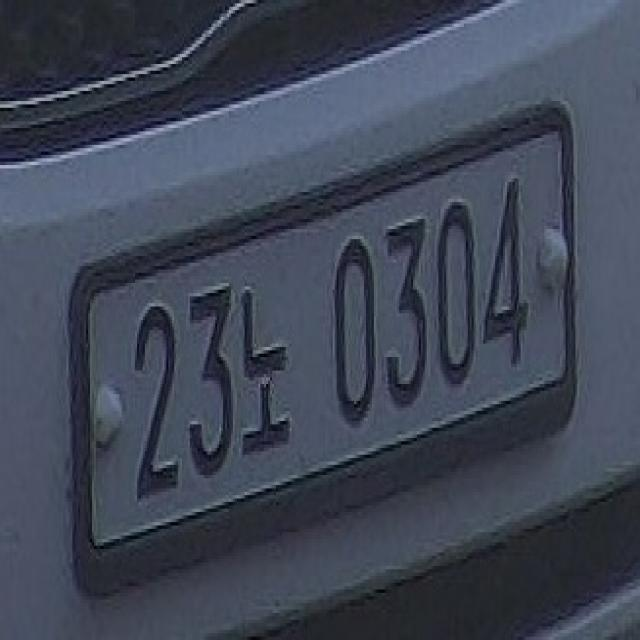0: (332, 222, 382, 458), (436, 184, 480, 416)
2: (127, 279, 187, 519)
3: (186, 262, 238, 507), (384, 200, 437, 432)
4: (482, 159, 537, 387)
license_plate: (80, 123, 575, 588)
no: (241, 262, 304, 478)
